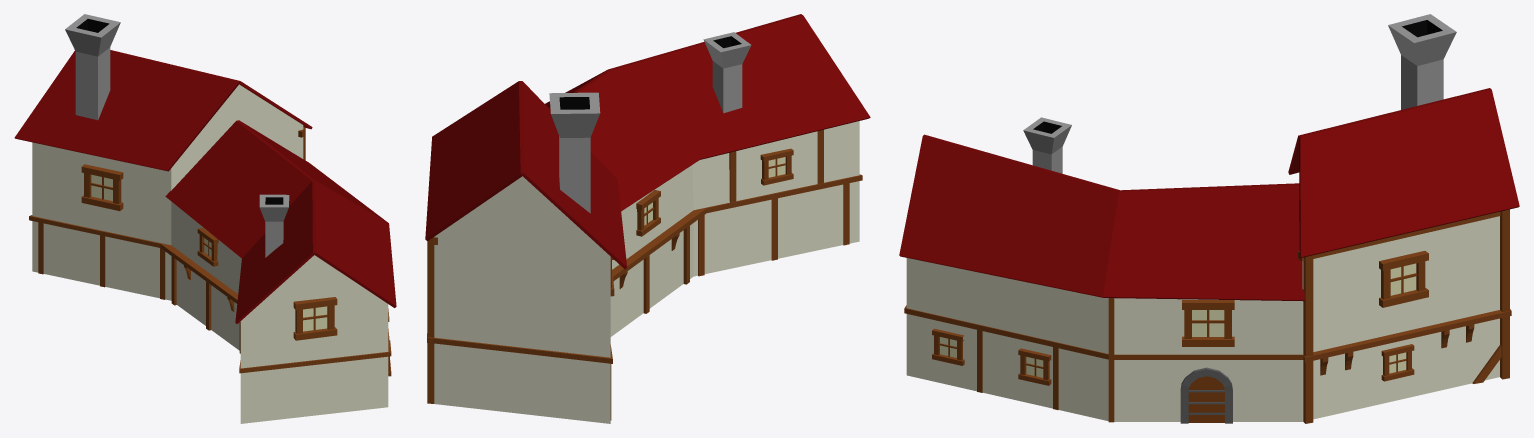
The model's file is Inn.fbx.
3 views of the same model, side by side, from view 1: azimuth 30°, elevation 25°; view 2: azimuth 150°, elevation 25°; view 3: azimuth 270°, elevation 25° (orthographic). The views are drawn at different scales.
Visible parts, largest first — view 1: Inn; view 2: Inn; view 3: Inn.
Part boxes in pixels (x1,y1,x2,y2): Inn: [14, 14, 396, 423]; Inn: [425, 14, 870, 423]; Inn: [899, 14, 1519, 423].
Size of the model in its own units: 1856 by 1892 by 3566.
